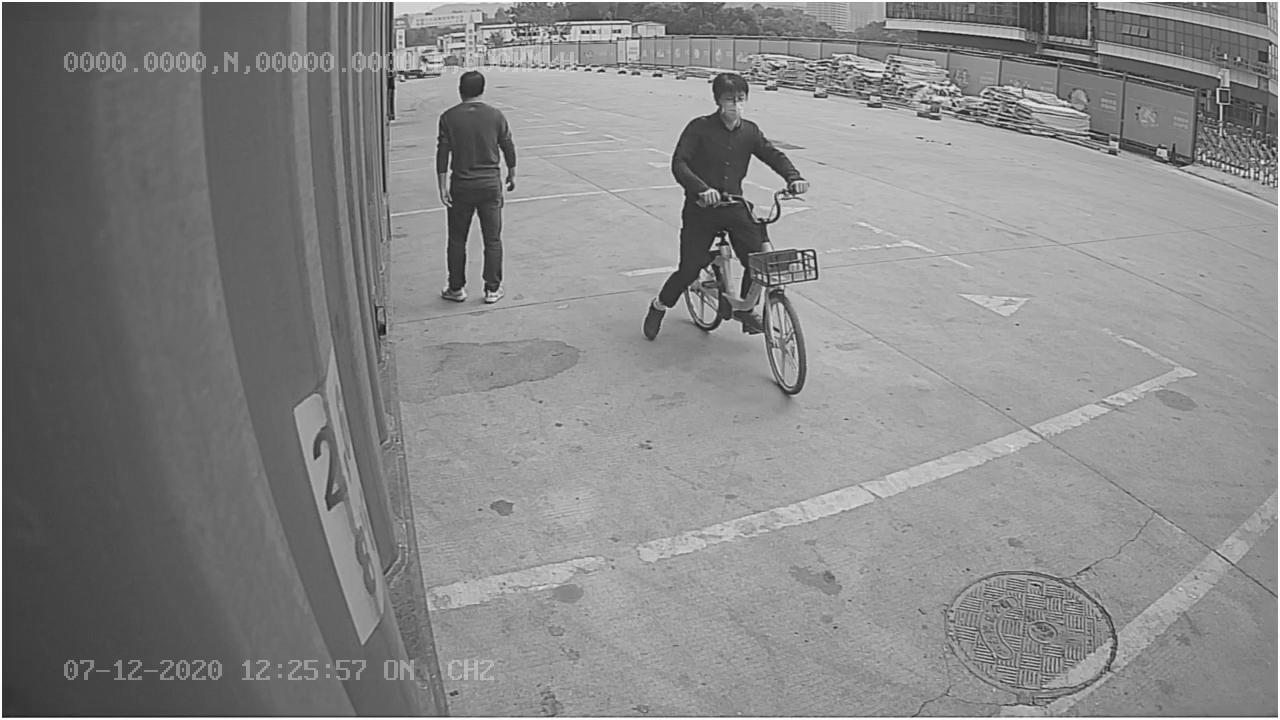person: (429, 65, 520, 310)
